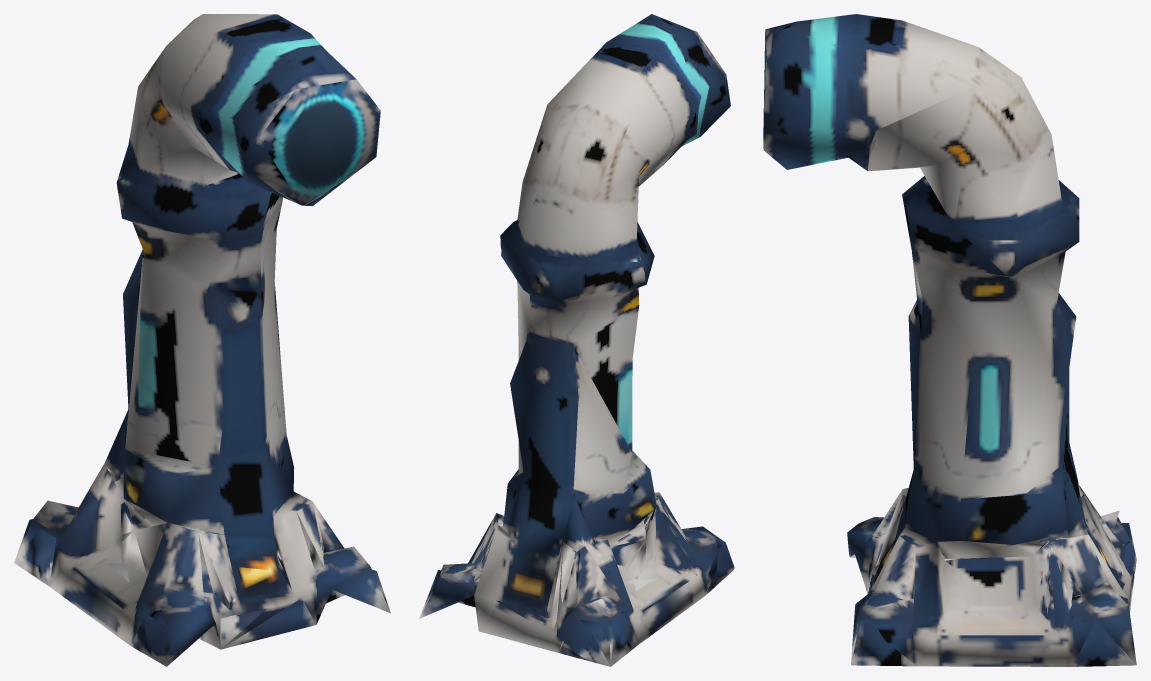
File: cryo-pipe-riser_LOD2.glb
The picture shows the model from 3 angles, left to right: view 1: azimuth 30°, elevation 25°; view 2: azimuth 150°, elevation 25°; view 3: azimuth 270°, elevation 25°; orthographic projection. The views are drawn at different scales.
Parts seen in each view (by area): view 1: cryo-pipe-riser_LOD2; view 2: cryo-pipe-riser_LOD2; view 3: cryo-pipe-riser_LOD2.
Boxes of the visible parts, x1=… form: cryo-pipe-riser_LOD2: x1=14, y1=14, x2=390, y2=666; cryo-pipe-riser_LOD2: x1=419, y1=14, x2=734, y2=666; cryo-pipe-riser_LOD2: x1=763, y1=14, x2=1136, y2=666.
Bounding box in the file's own units: 0.707 × 1.79 × 1.02.
1 material, 1 textured.
